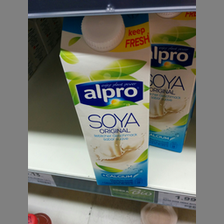milk: (58, 15, 153, 192), (148, 13, 195, 154)
